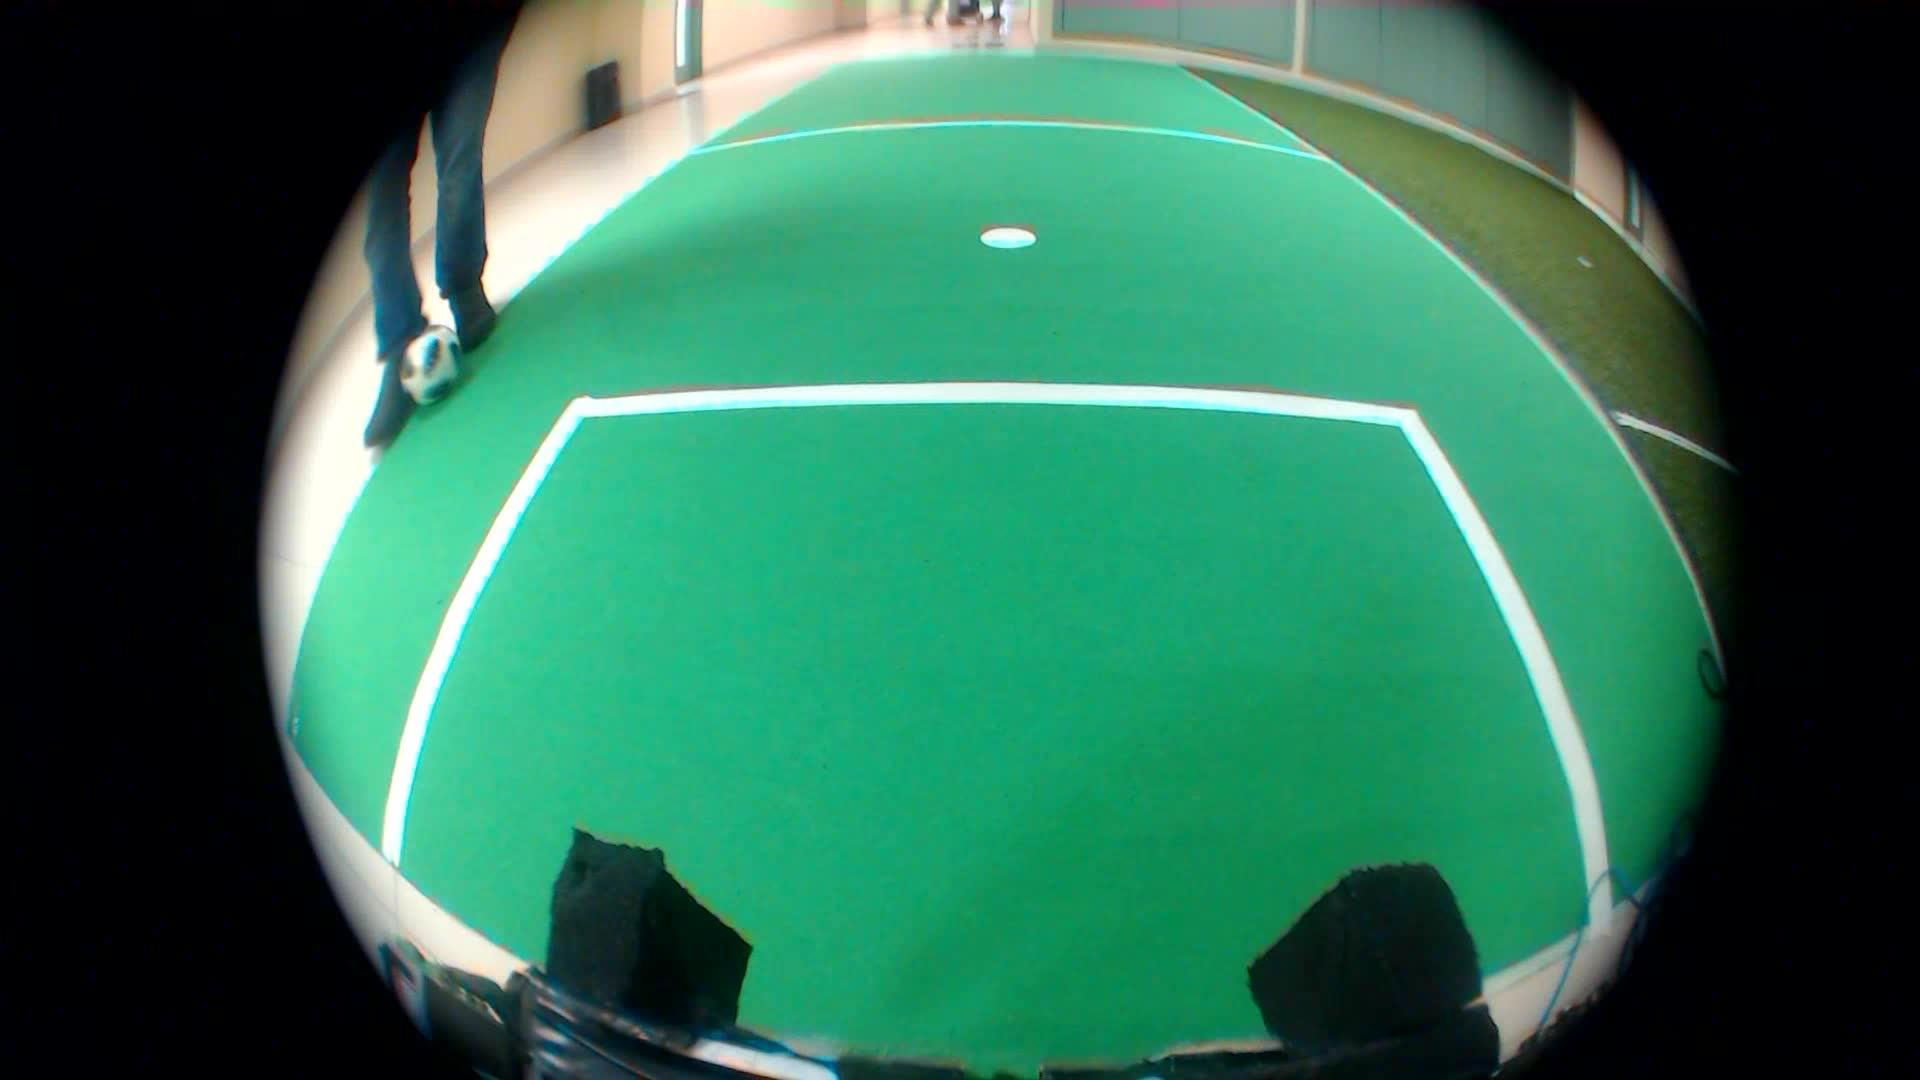ball: (389, 319, 463, 410)
